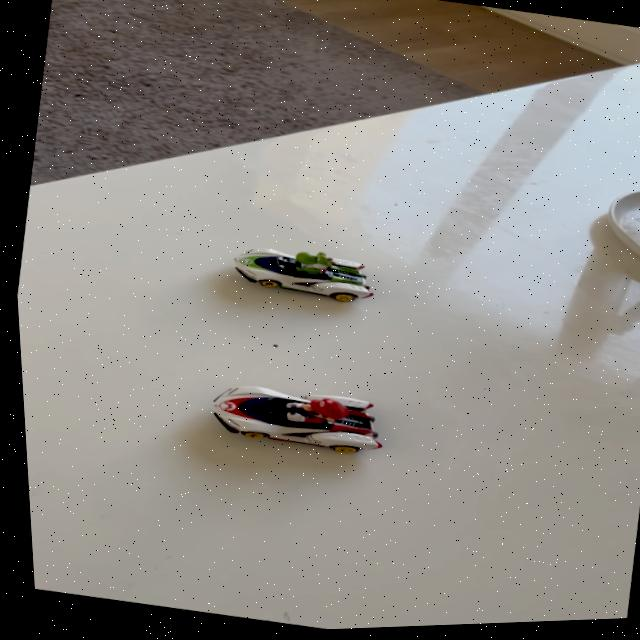mario: (189, 363, 394, 470)
yoshi: (214, 223, 393, 319)
